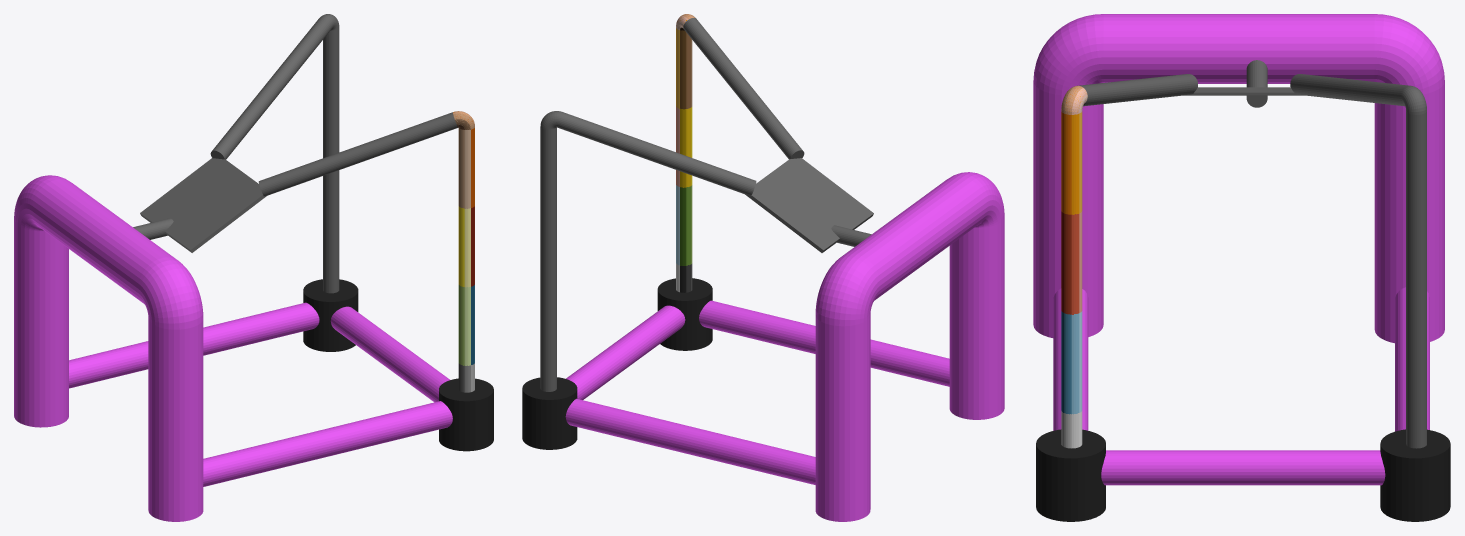
Rendered from WinP.fbx.
3 views of the same model, side by side, from view 1: azimuth 30°, elevation 25°; view 2: azimuth 150°, elevation 25°; view 3: azimuth 270°, elevation 25° (orthographic). The views are drawn at different scales.
Parts seen in each view (by area): view 1: Win; view 2: Win; view 3: Win.
Boxes of the visible parts, x1,y1,x2,y2 form: Win: [14, 14, 493, 521]; Win: [522, 14, 1004, 521]; Win: [1033, 14, 1450, 521].
Size of the model in its own units: 1419 by 1320 by 1190.
Materials: 1 (1 with a texture image).
